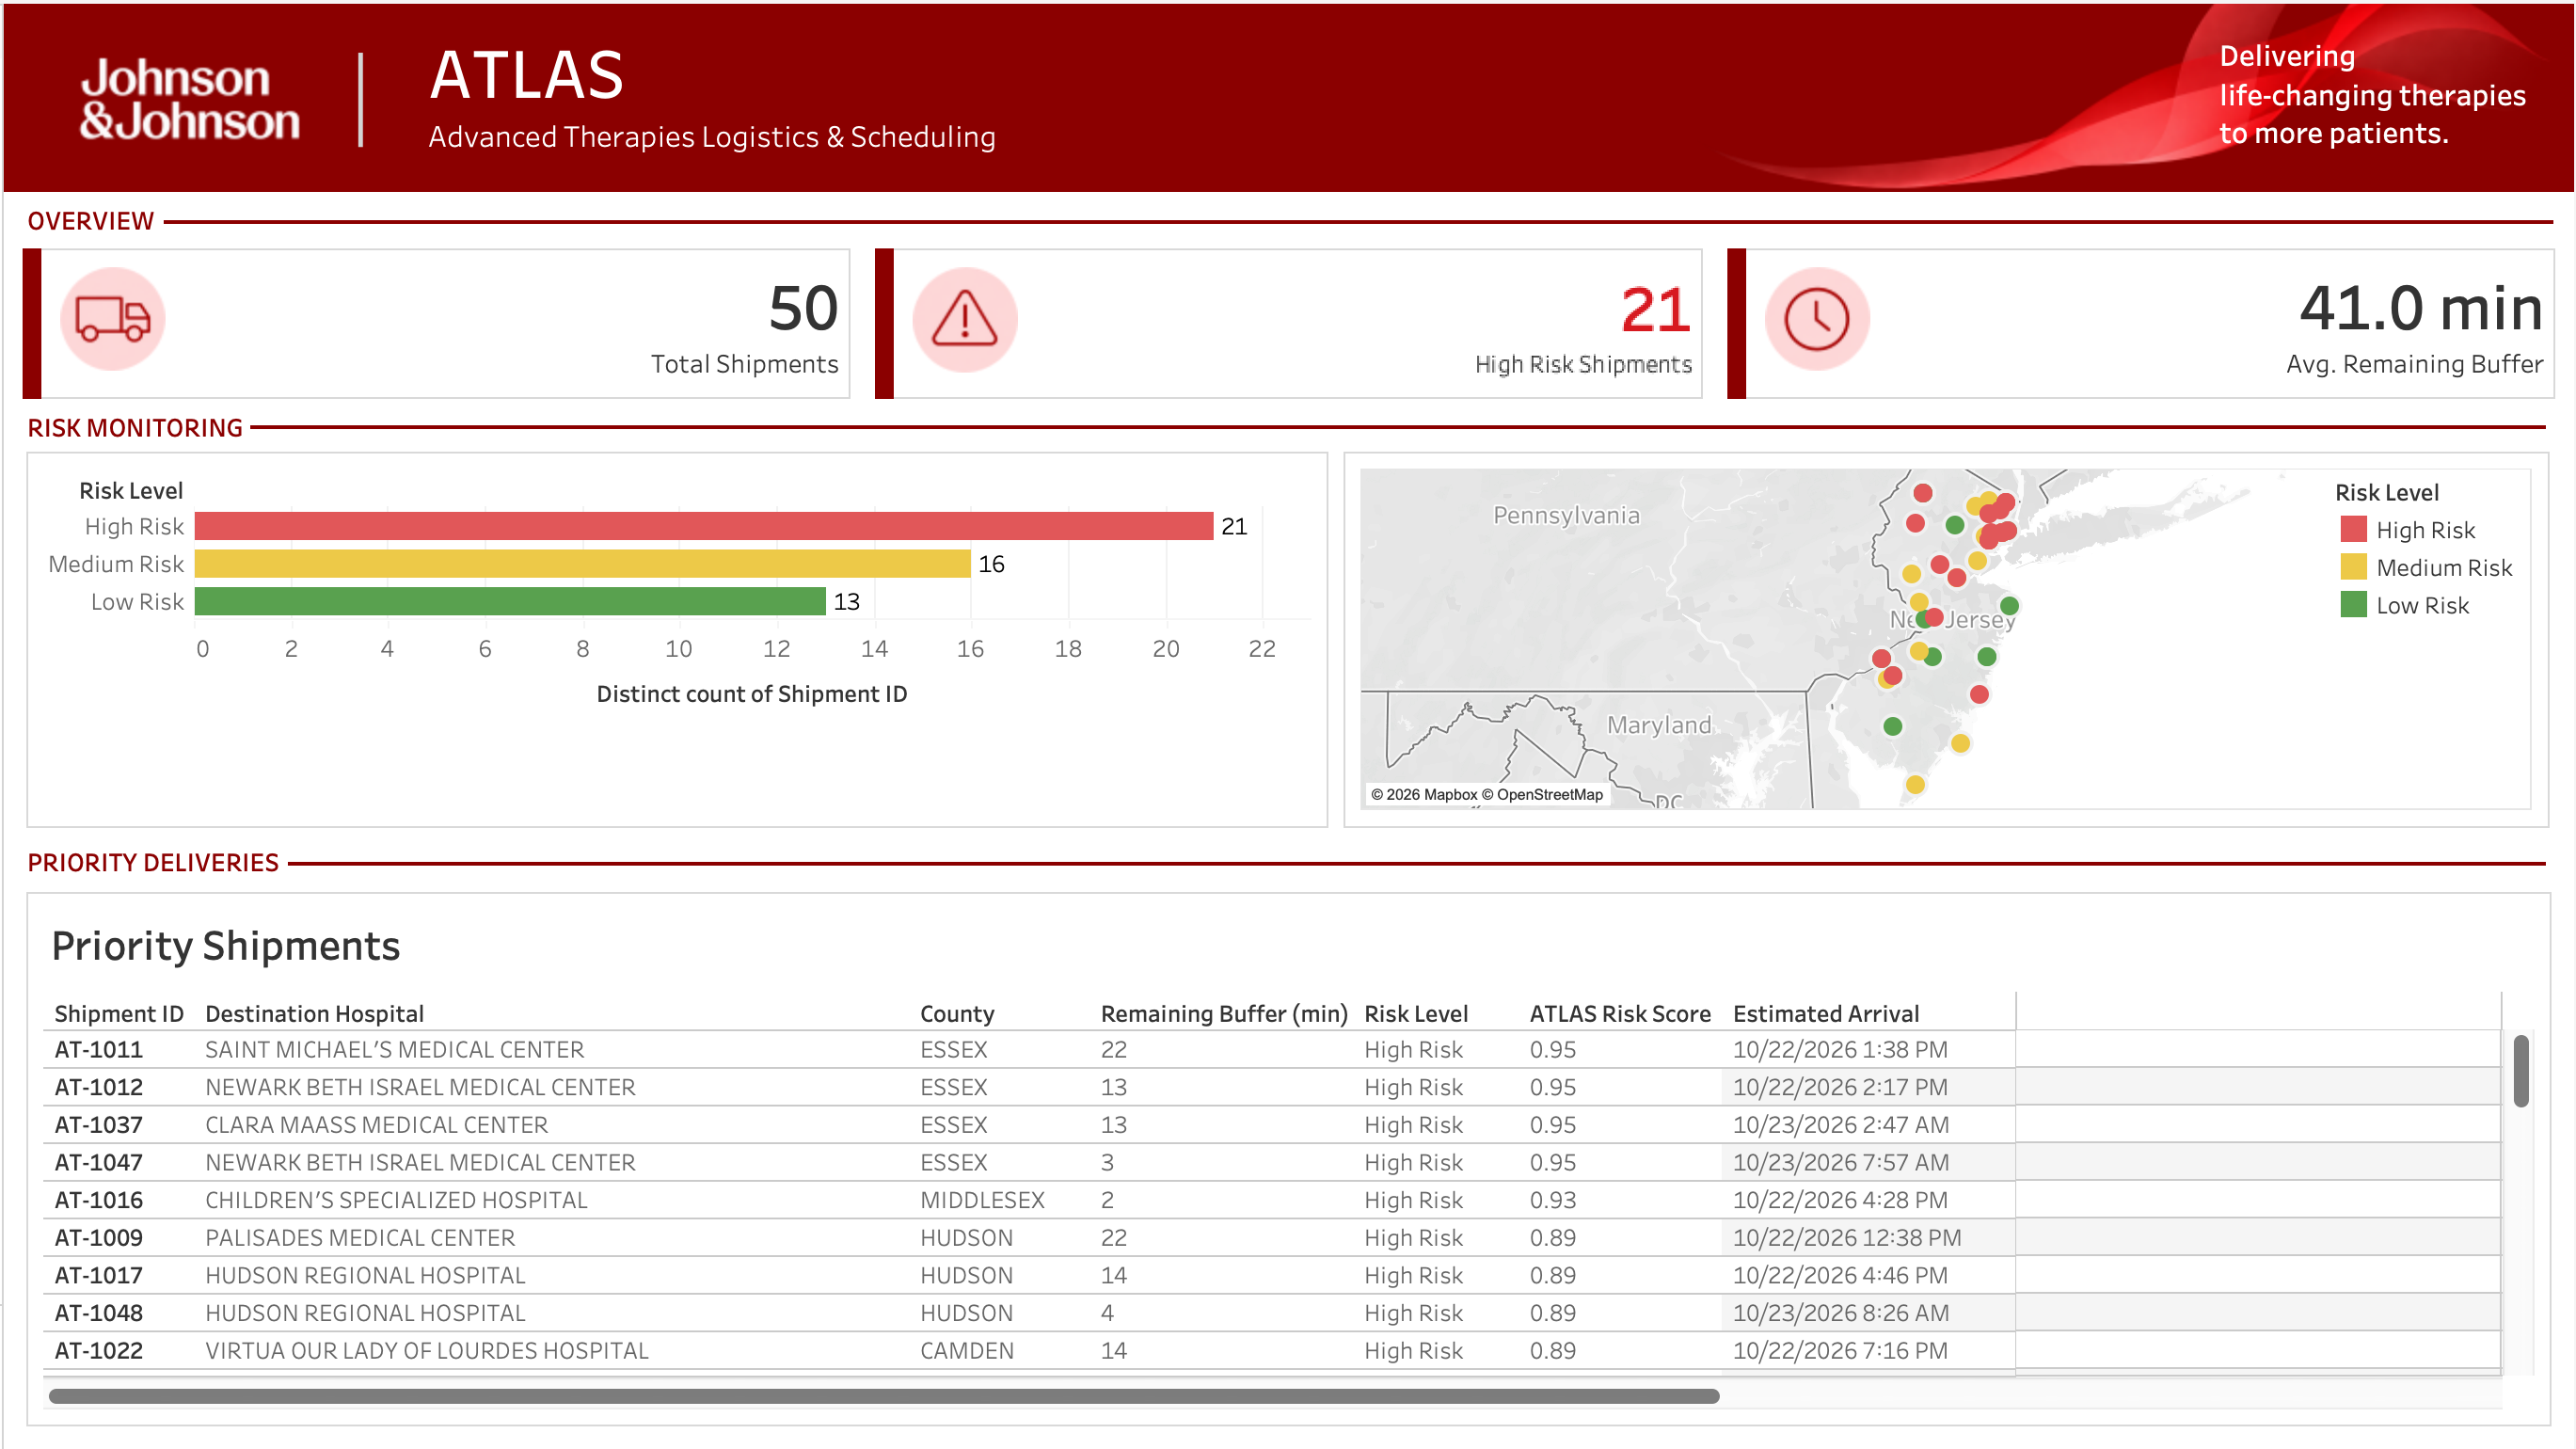

This screenshot's page, from the dashboard's own definition file:
{"tool":"tableau","page":{"name":"Dashboard 1","canvas":[1366,768],"ordinal":0},"visuals":[{"type":"blank","box":[0,0,1366,100]},{"type":"text","box":[188,11,37,65]},{"type":"text","box":[223,12,308,69]},{"type":"text","box":[1175,17,169,63]},{"type":"image","param":"Image/Johnson & Johnson White Script Logo.png","box":[14,19,172,97]},{"type":"text","box":[1133,40,210,63]},{"type":"text","box":[10,106,100,30]},{"type":"blank","box":[85,121,1270,2]},{"type":"worksheet","title":"Total Shipments","mark":"Automatic","box":[10,142,440,80]},{"type":"worksheet","title":"High Risk Shipments","mark":"Automatic","box":[463,142,440,80]},{"type":"worksheet","title":"Average Remaining Buffer","mark":"Automatic","box":[916,142,440,80]},{"type":"worksheet","title":"Shipments by Risk Level","mark":"Bar","rows":["ATLAS_Risk_Level"],"cols":["Shipment_ID"],"box":[8,224,675,248]},{"type":"worksheet","title":"Shipment Risk Map","mark":"Automatic","box":[683,224,675,248]},{"type":"worksheet","title":"Priority Shipments","mark":"Automatic","rows":["Shipment_ID","Destination_Hospital","Destination_County","Remaining_Buffer_Min","ATLAS_Risk_Level","ATLAS_Risk_Score","Estimated_Arrival"],"box":[8,472,1350,288]}]}

Visuals, with their boxes in screenshot pixels (x1, y1, x2, y2), scaled from the page's 1366x768 canvas onto the 2576x1449 screenshot:
blank: bbox=(0, 0, 2575, 189)
text: bbox=(355, 21, 424, 143)
text: bbox=(421, 23, 1001, 152)
text: bbox=(2216, 32, 2535, 151)
image: bbox=(26, 36, 351, 219)
text: bbox=(2137, 75, 2533, 195)
text: bbox=(19, 200, 207, 257)
blank: bbox=(160, 229, 2555, 232)
"Total Shipments" worksheet: bbox=(19, 268, 849, 419)
"High Risk Shipments" worksheet: bbox=(873, 268, 1703, 419)
"Average Remaining Buffer" worksheet: bbox=(1727, 268, 2557, 419)
"Shipments by Risk Level" worksheet (Bar marks): bbox=(15, 422, 1288, 890)
"Shipment Risk Map" worksheet: bbox=(1288, 422, 2561, 890)
"Priority Shipments" worksheet: bbox=(15, 890, 2561, 1434)
